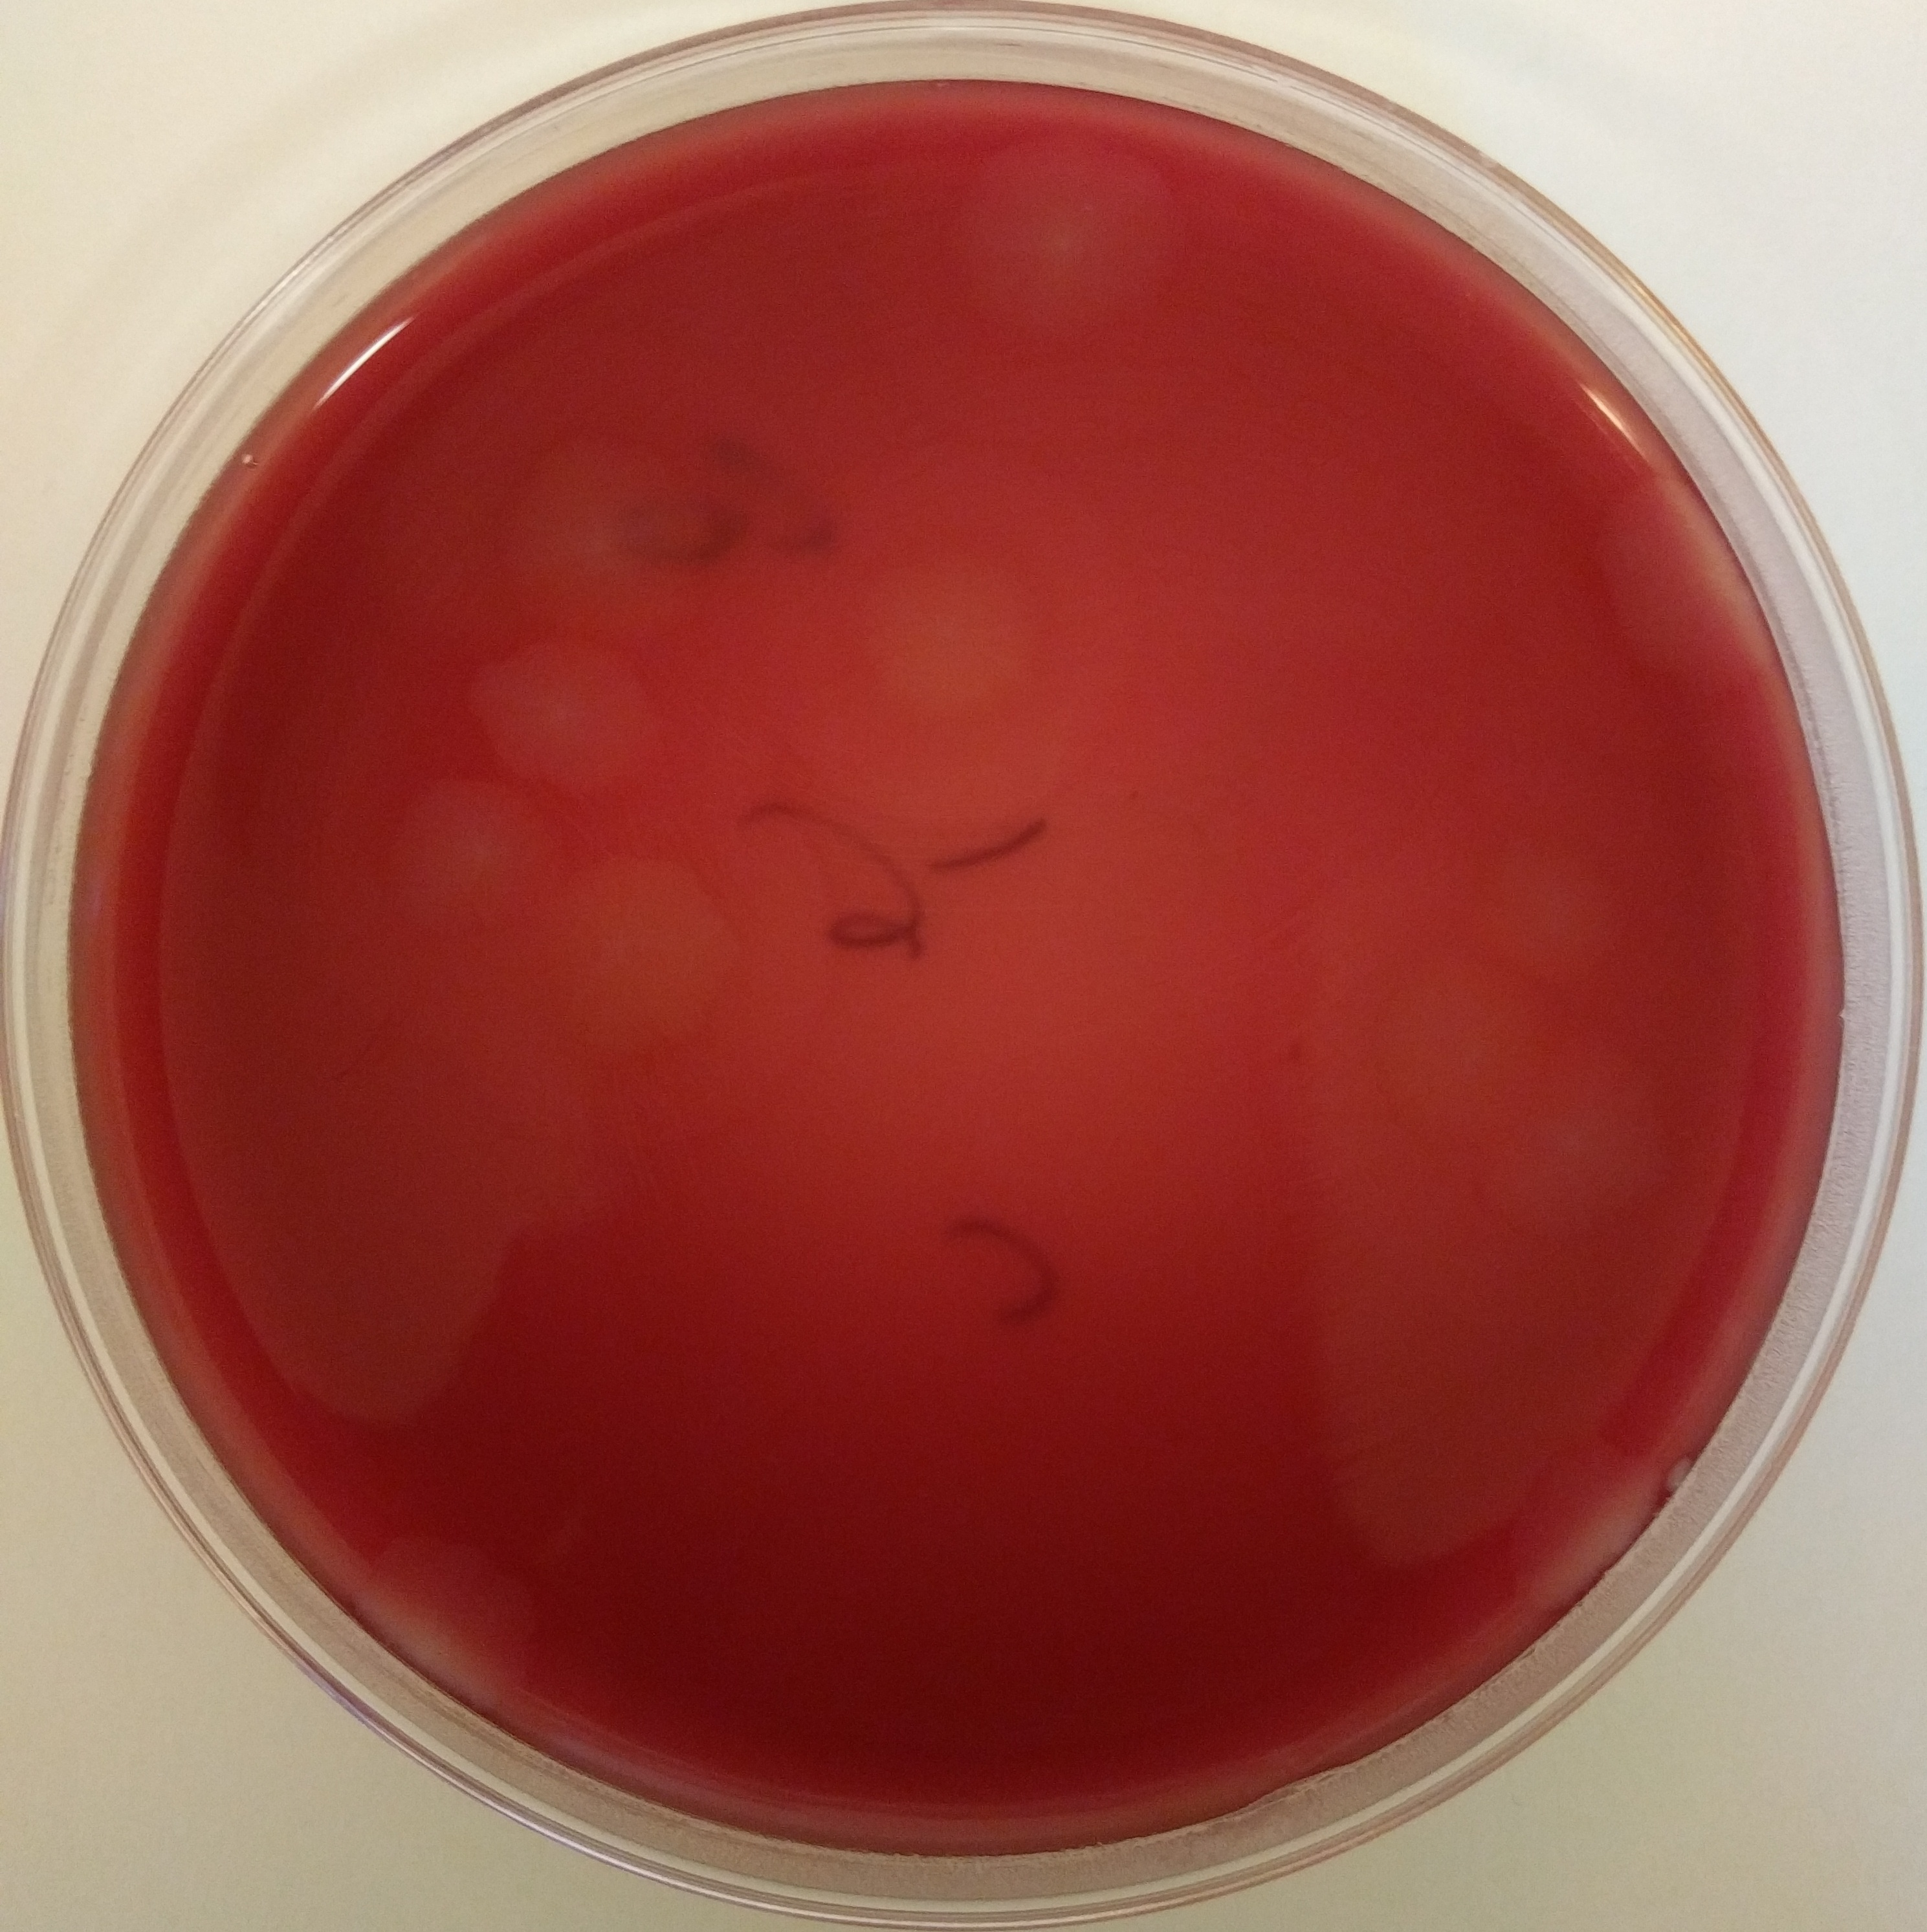sp08: (948, 99, 1184, 348), (1461, 1020, 1698, 1262), (1579, 431, 1786, 699), (538, 822, 778, 1048), (496, 420, 729, 637), (1359, 887, 1549, 1147), (348, 1500, 558, 1726), (842, 522, 1071, 729), (461, 609, 692, 801), (1465, 799, 1655, 999), (371, 750, 570, 937), (1495, 1427, 1661, 1618)
